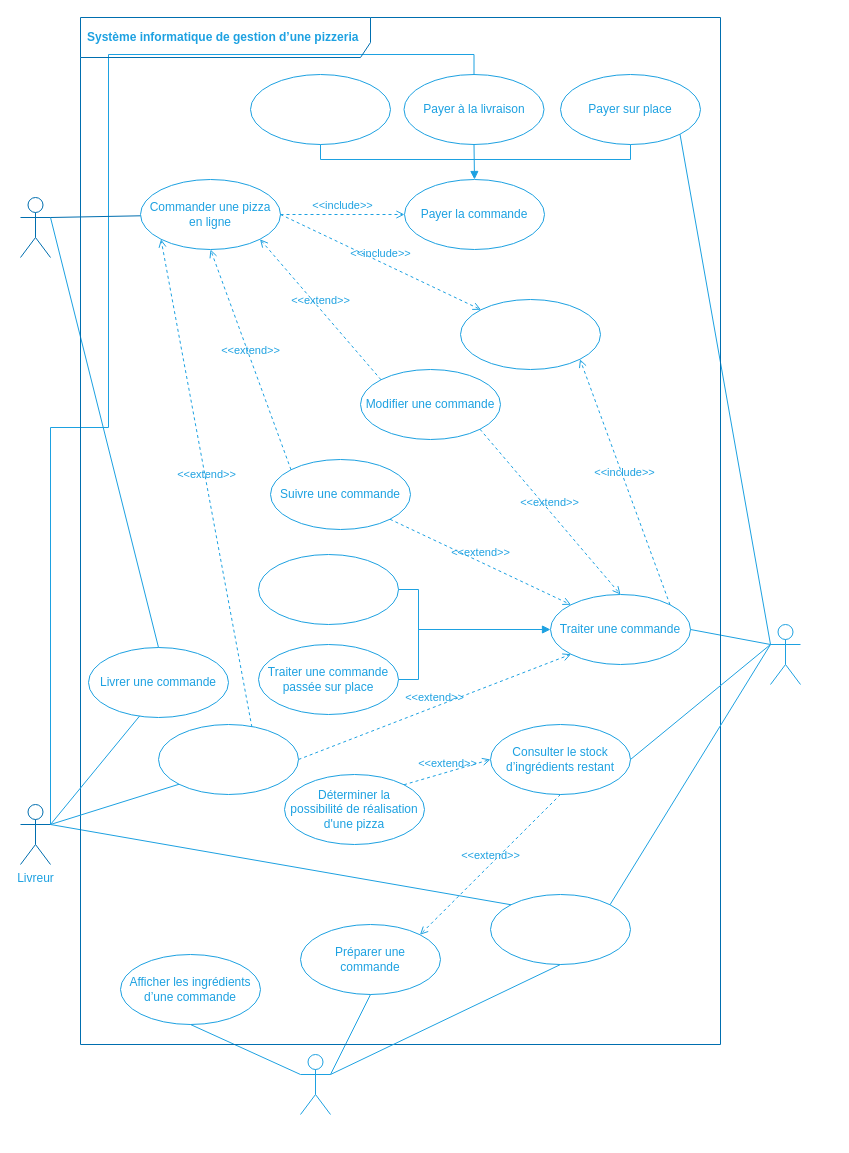
This 849x1153 diagram has some shape labels left out. Here are the shapes that lost their labels. From the top down, the box of each, then its label:
(250, 74, 390, 144): Payer en ligne
(20, 196, 50, 258): Client
(460, 298, 600, 370): Mettre à jour le stock d’ingrédiens restant
(258, 554, 398, 624): Traiter une commande passée par téléphone
(770, 624, 800, 684): Responsable du point de vente
(158, 724, 298, 794): Annuler une commande
(490, 894, 630, 964): Afficher la liste des commandes et leur statut
(300, 1054, 330, 1114): Pizzaïolo
